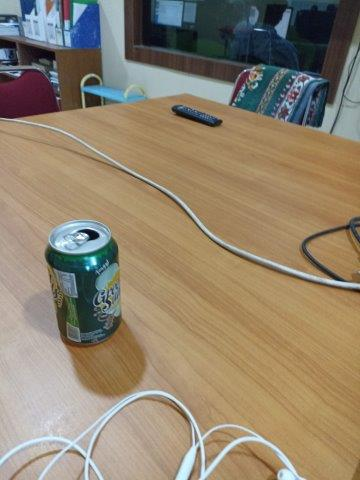kaleng: (45, 219, 121, 348)
